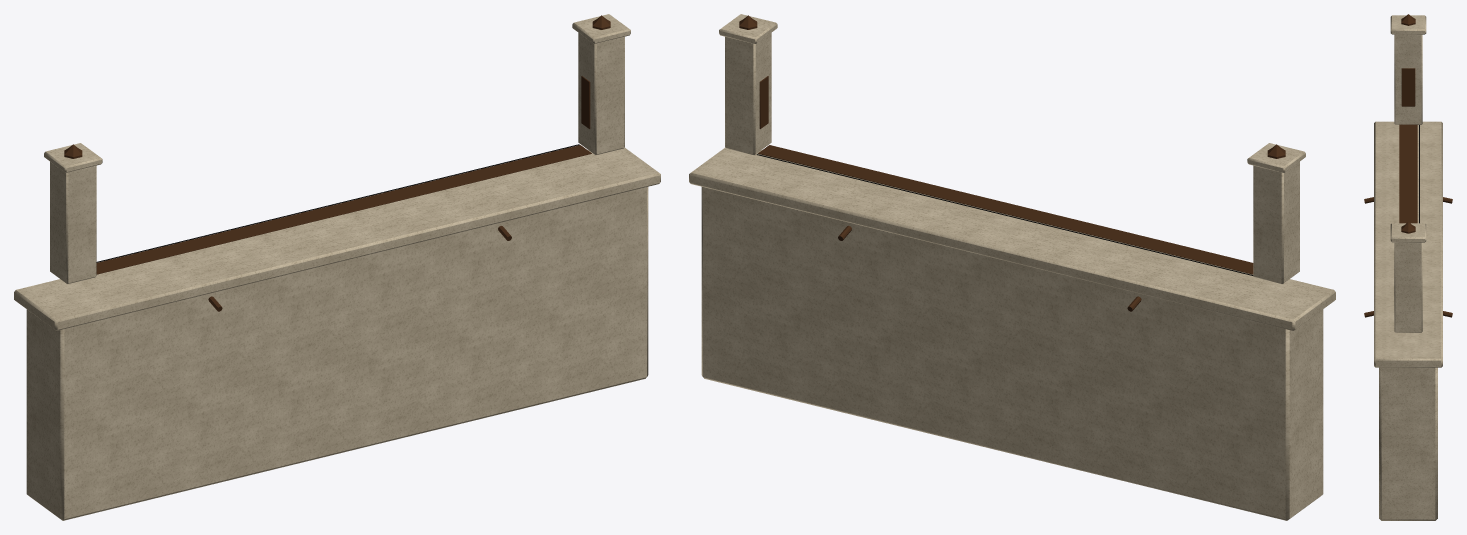
The model's file is bridge-abutment-observatory.lod1.glb.
The picture shows the model from 3 angles, left to right: view 1: azimuth 30°, elevation 25°; view 2: azimuth 150°, elevation 25°; view 3: azimuth 270°, elevation 25°; orthographic projection. The views are drawn at different scales.
Parts seen in each view (by area): view 1: bridge_abutment_observatory_Stone • warm limestone, bridge_abutment_observatory_Trim • places palette; view 2: bridge_abutment_observatory_Stone • warm limestone, bridge_abutment_observatory_Trim • places palette; view 3: bridge_abutment_observatory_Stone • warm limestone, bridge_abutment_observatory_Trim • places palette.
Boxes of the visible parts, x1,y1,x2,y2 form: bridge_abutment_observatory_Stone • warm limestone: (14, 14, 660, 520); bridge_abutment_observatory_Trim • places palette: (64, 15, 610, 311); bridge_abutment_observatory_Stone • warm limestone: (689, 14, 1335, 520); bridge_abutment_observatory_Trim • places palette: (739, 15, 1285, 311); bridge_abutment_observatory_Stone • warm limestone: (1374, 15, 1442, 520); bridge_abutment_observatory_Trim • places palette: (1364, 14, 1452, 317).
Size of the model in its own units: 6.7 by 3.78 by 1.05.
2 materials, 2 textured.
